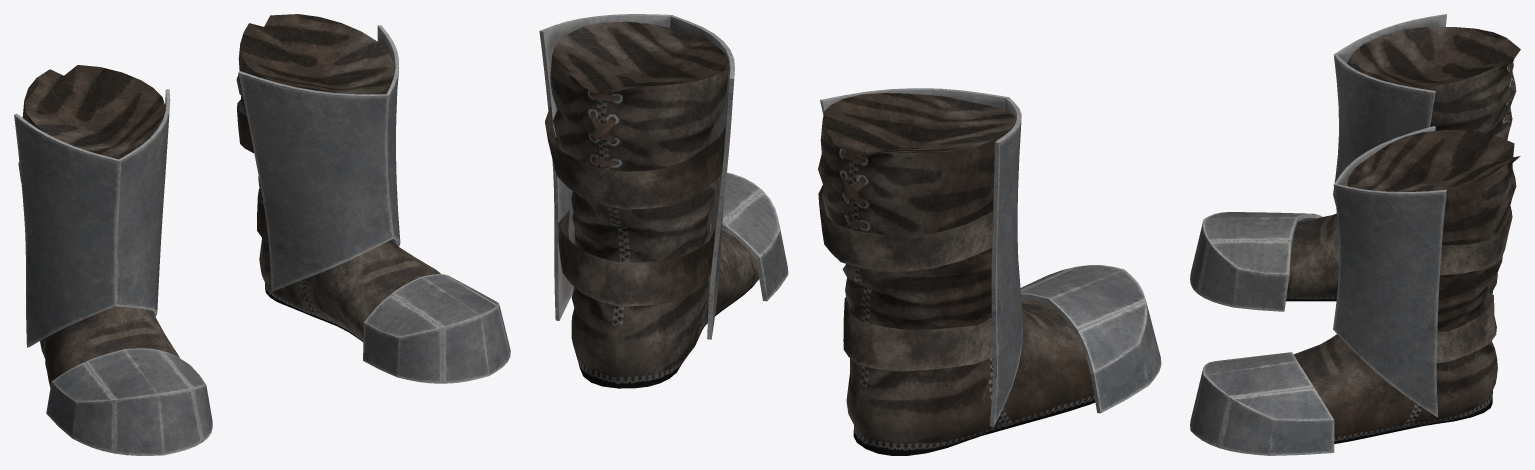
File: sk_dwarf_erebor_greaves_heavy_d.fbx
3 renders of one model, left to right at view 1: azimuth 30°, elevation 25°; view 2: azimuth 150°, elevation 25°; view 3: azimuth 270°, elevation 25°, orthographic. The views are drawn at different scales.
Visible parts, largest first — view 1: sk_dwarf_erebor_greaves_heavy_d; view 2: sk_dwarf_erebor_greaves_heavy_d; view 3: sk_dwarf_erebor_greaves_heavy_d.
Part boxes in pixels (<box>): sk_dwarf_erebor_greaves_heavy_d: <box>14,14,510,455</box>; sk_dwarf_erebor_greaves_heavy_d: <box>539,14,1161,455</box>; sk_dwarf_erebor_greaves_heavy_d: <box>1190,14,1520,455</box>.
Bounding box in the file's own units: 0.5389 × 0.3634 × 0.3053.
1 material, 1 textured.
